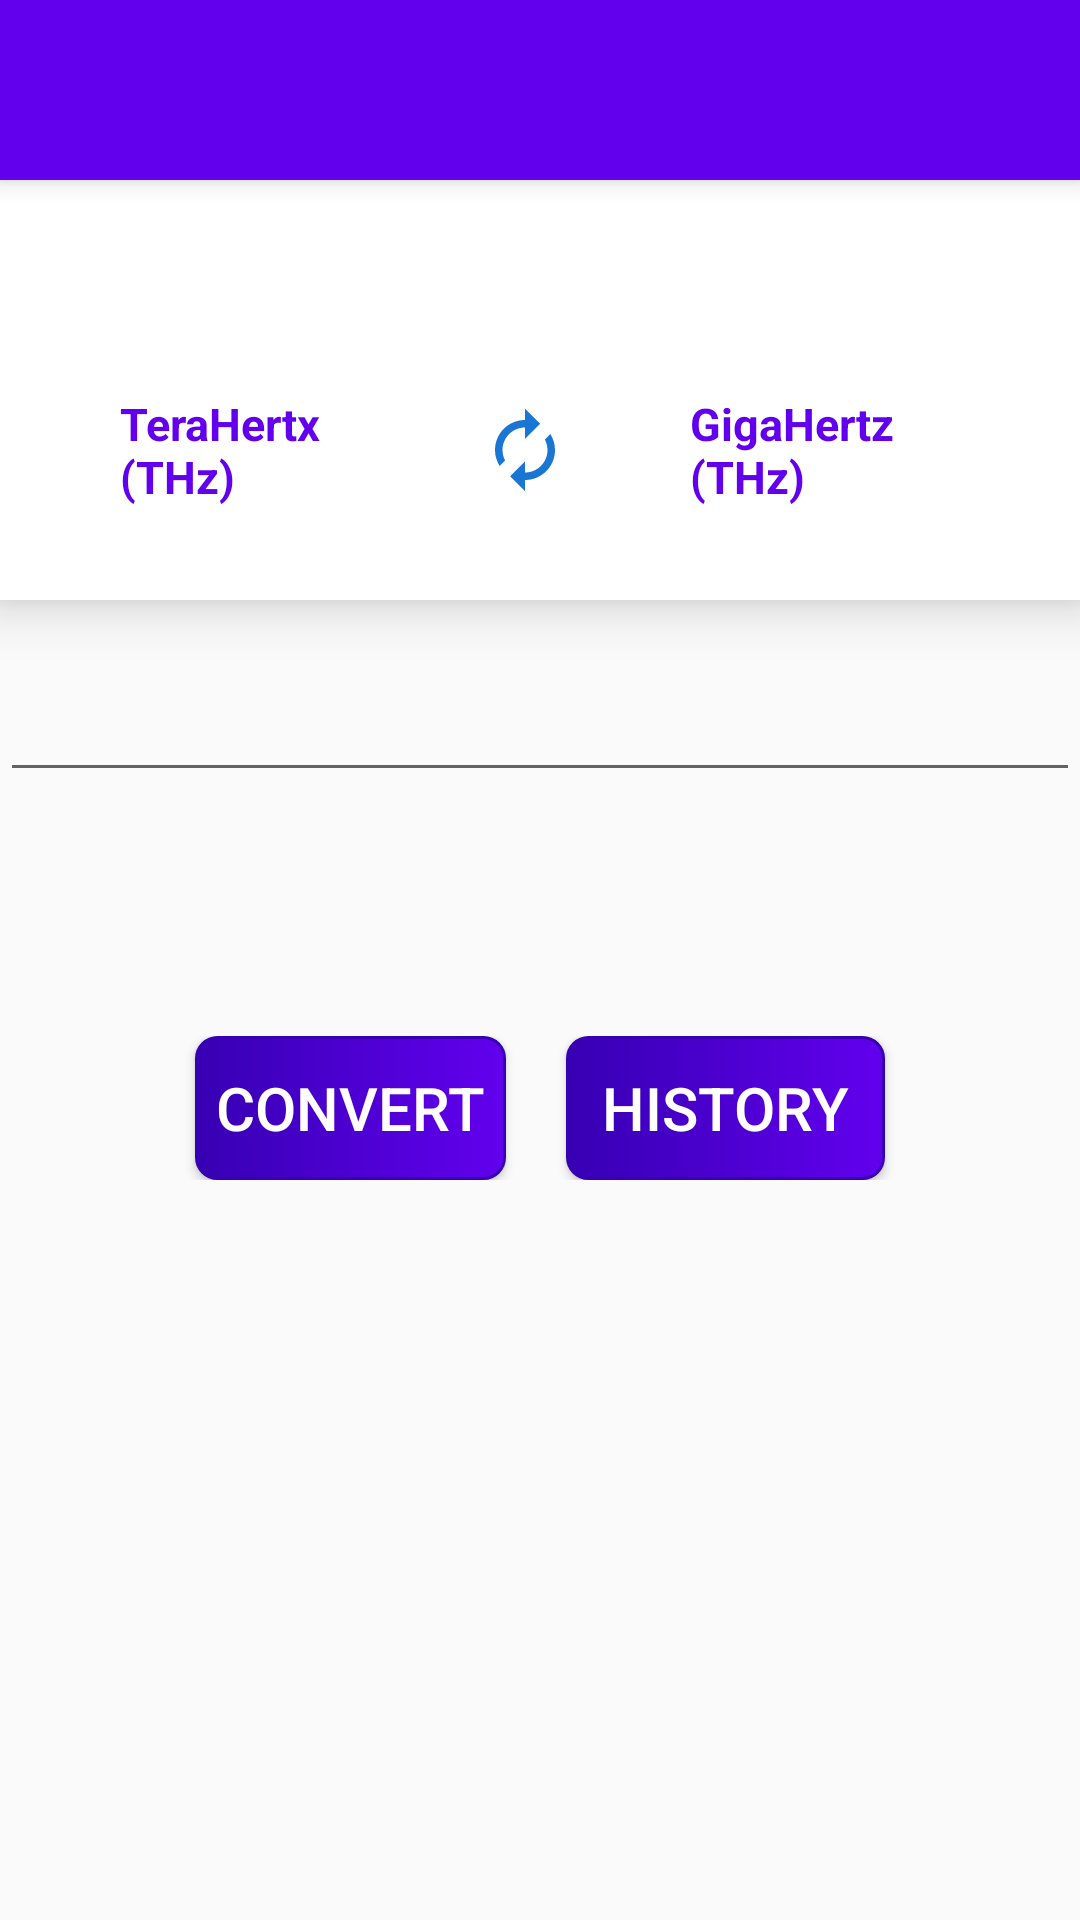

Where to tap for icons on this 1080px x 1920px app screen, as [x,y]:
autorenew: [525,450]
